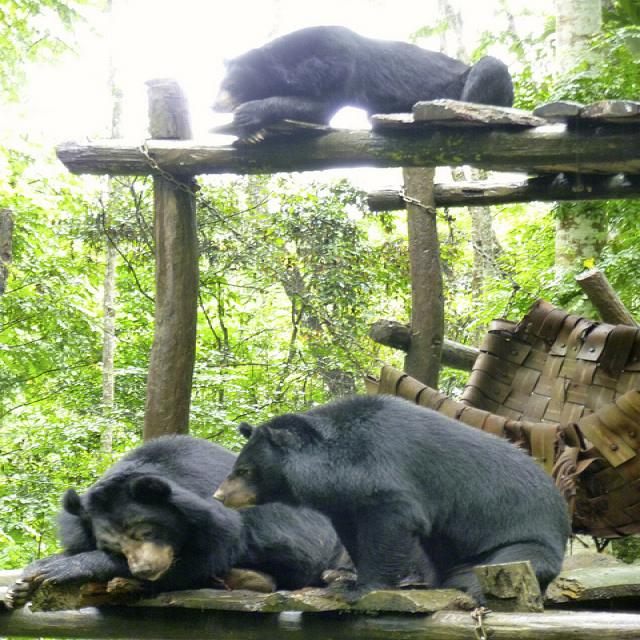Bear: (226, 391, 565, 583), (44, 434, 343, 587), (203, 26, 516, 132)
